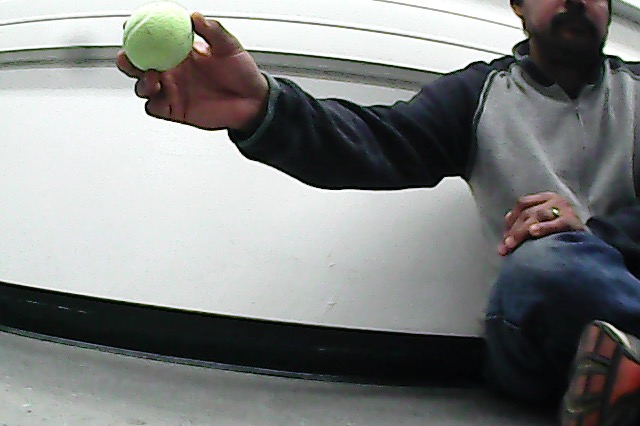ball: (122, 1, 199, 76)
